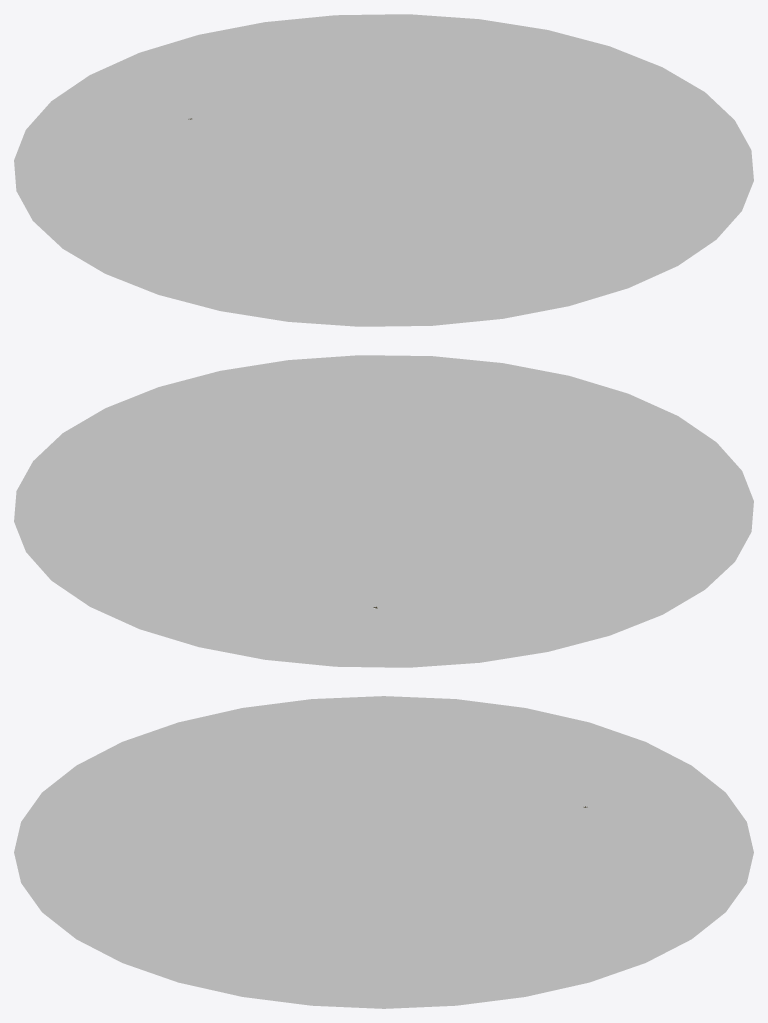
File: stageProb.fbx
The picture shows the model from 3 angles, top to bottom: view 1: azimuth 30°, elevation 25°; view 2: azimuth 150°, elevation 25°; view 3: azimuth 270°, elevation 25°; orthographic projection.
Visible parts, largest first — view 1: WaterProDaytime; view 2: WaterProDaytime; view 3: WaterProDaytime.
Boxes of the visible parts, <box> form: WaterProDaytime: <box>14,14,753,326</box>; WaterProDaytime: <box>14,355,753,667</box>; WaterProDaytime: <box>14,696,753,1008</box>.
Size of what is drawn, in the model's own units: 37636 by 35.87 by 37623.
7 materials, 5 textured.
